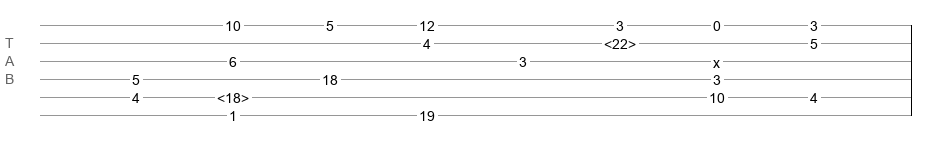0: (713, 18, 721, 28)
1: (229, 108, 237, 118)
10: (225, 18, 241, 28), (709, 90, 725, 100)
12: (419, 18, 435, 28)
18: (322, 72, 338, 82)
19: (419, 108, 435, 118)
3: (519, 54, 527, 64), (616, 18, 624, 28), (713, 72, 721, 82), (810, 18, 818, 28)
4: (132, 90, 140, 100), (423, 36, 431, 46), (810, 90, 818, 100)
5: (132, 72, 140, 82), (326, 18, 334, 28), (810, 36, 818, 46)
6: (229, 54, 237, 64)
harmonic: (217, 90, 249, 100), (604, 36, 636, 46)
x: (713, 55, 720, 63)
